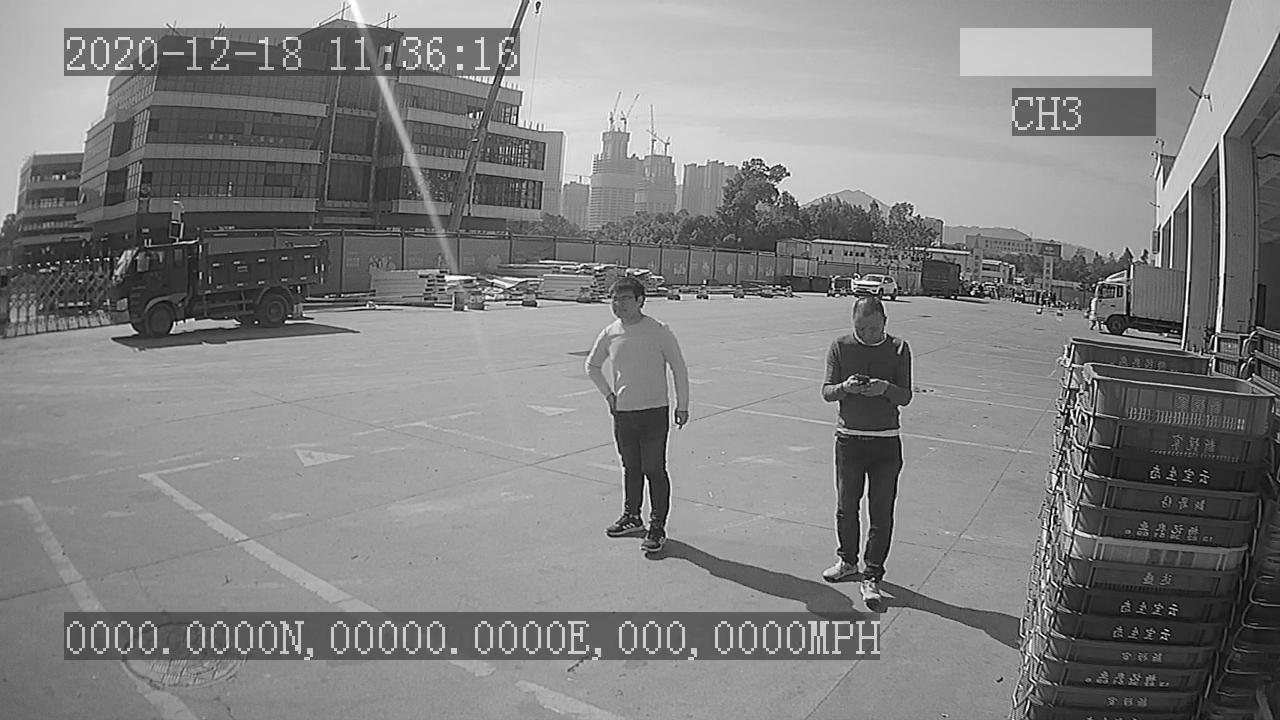person: (578, 273, 695, 556), (820, 294, 916, 606)
